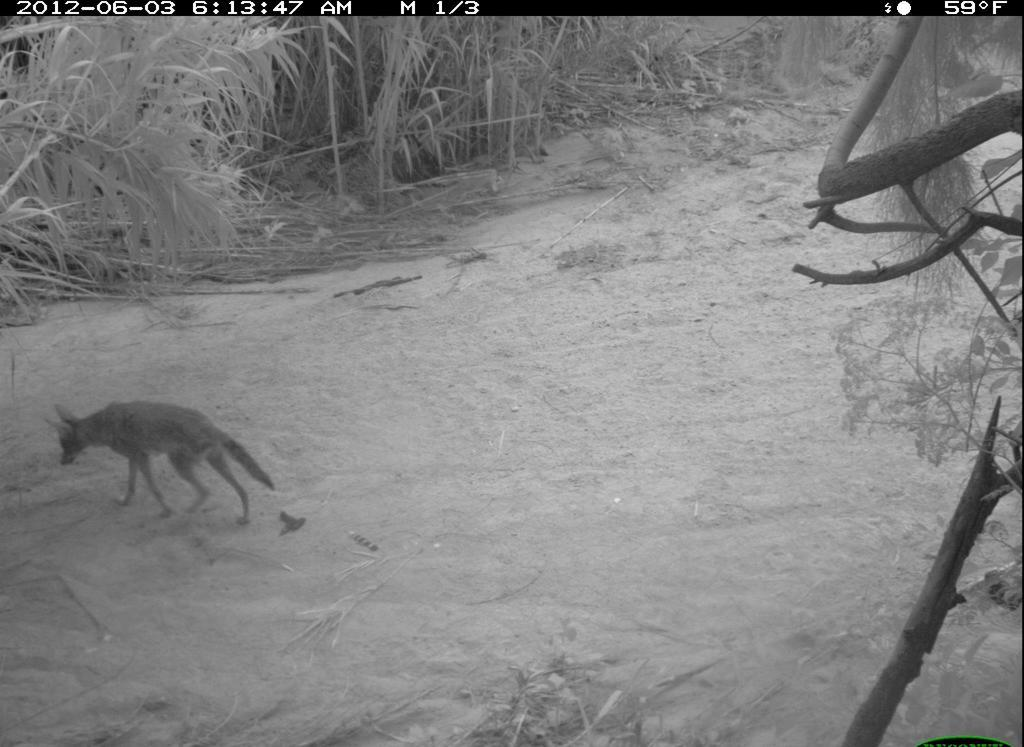coyote: (38, 388, 291, 557)
